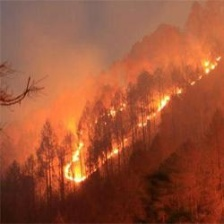fire: (57, 53, 213, 195)
